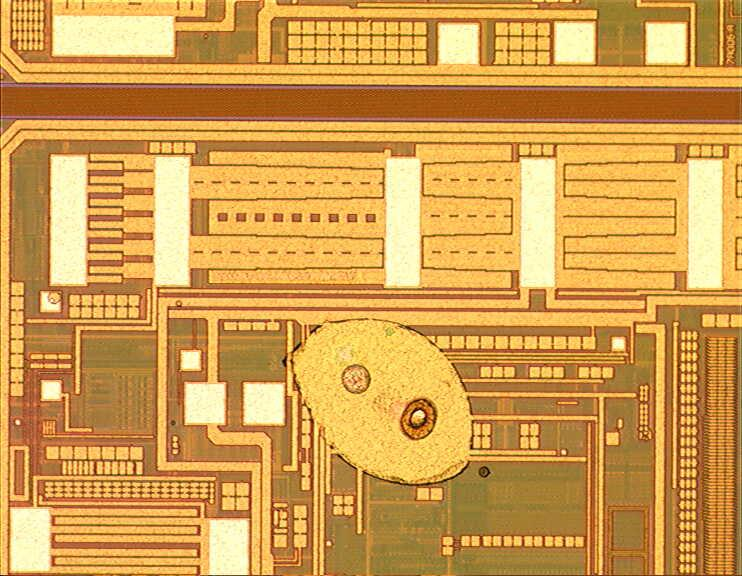BLOCK ETCH: (288, 316, 495, 491)
